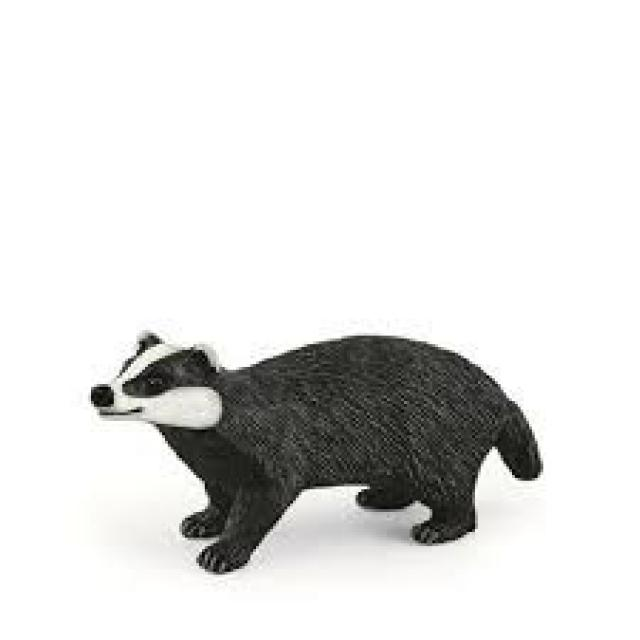Badger: (80, 310, 560, 592)
